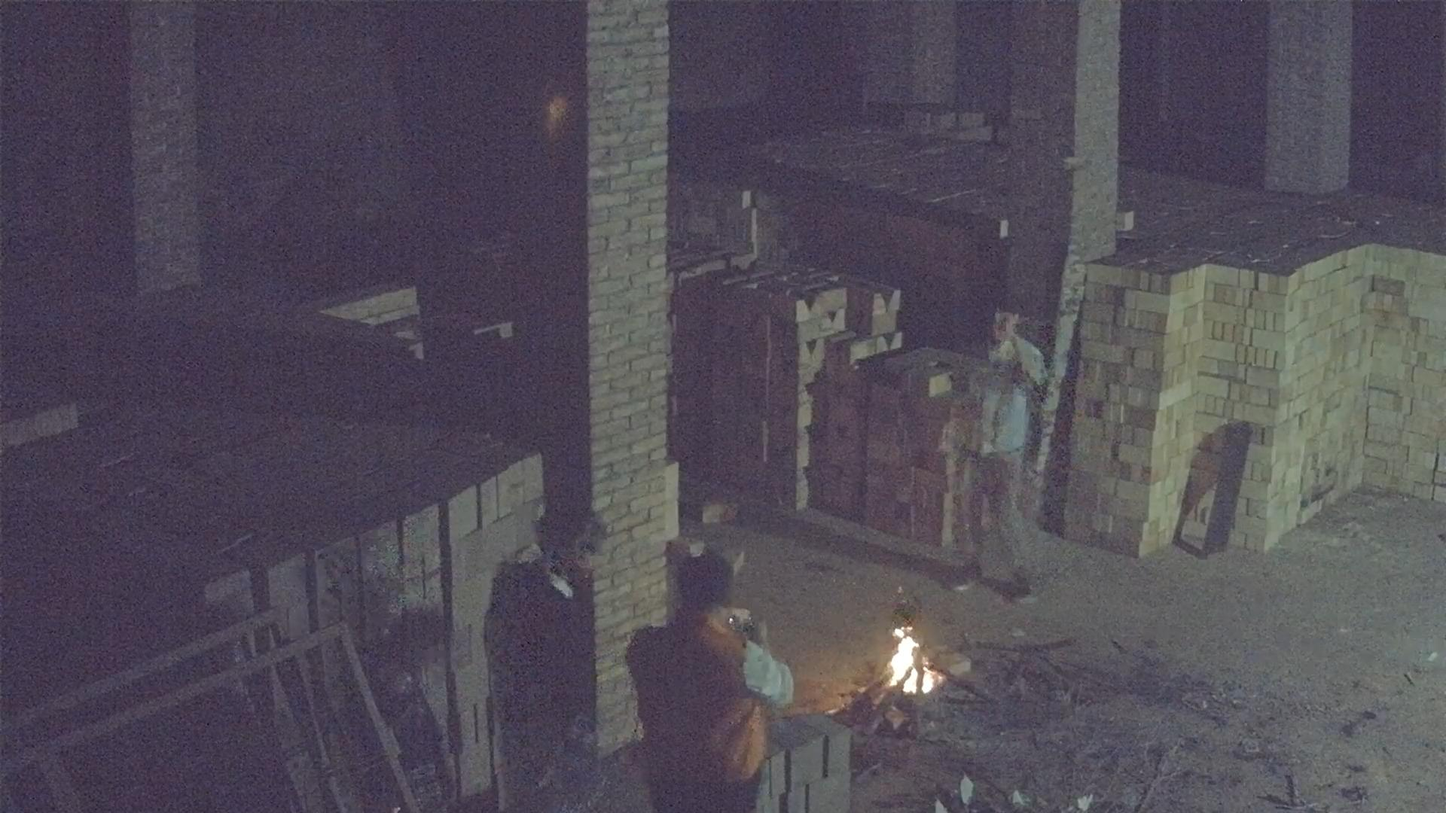fire: (889, 626, 935, 694)
